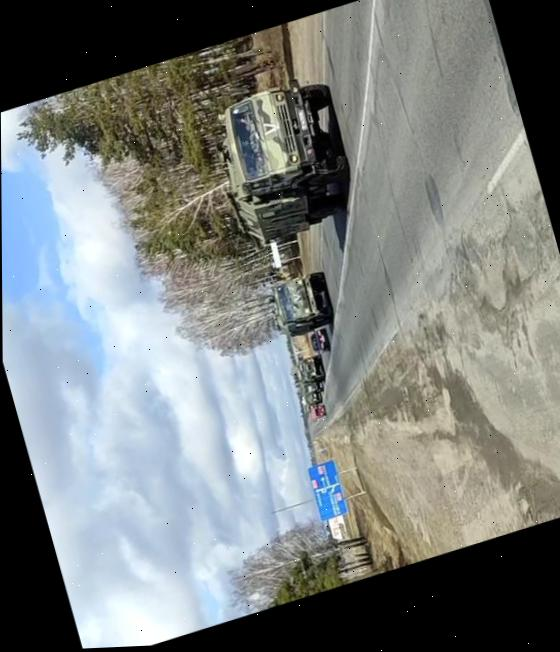car: (309, 326, 335, 354), (310, 403, 328, 418)
truck: (208, 64, 358, 253), (268, 265, 337, 336), (290, 351, 333, 391)
